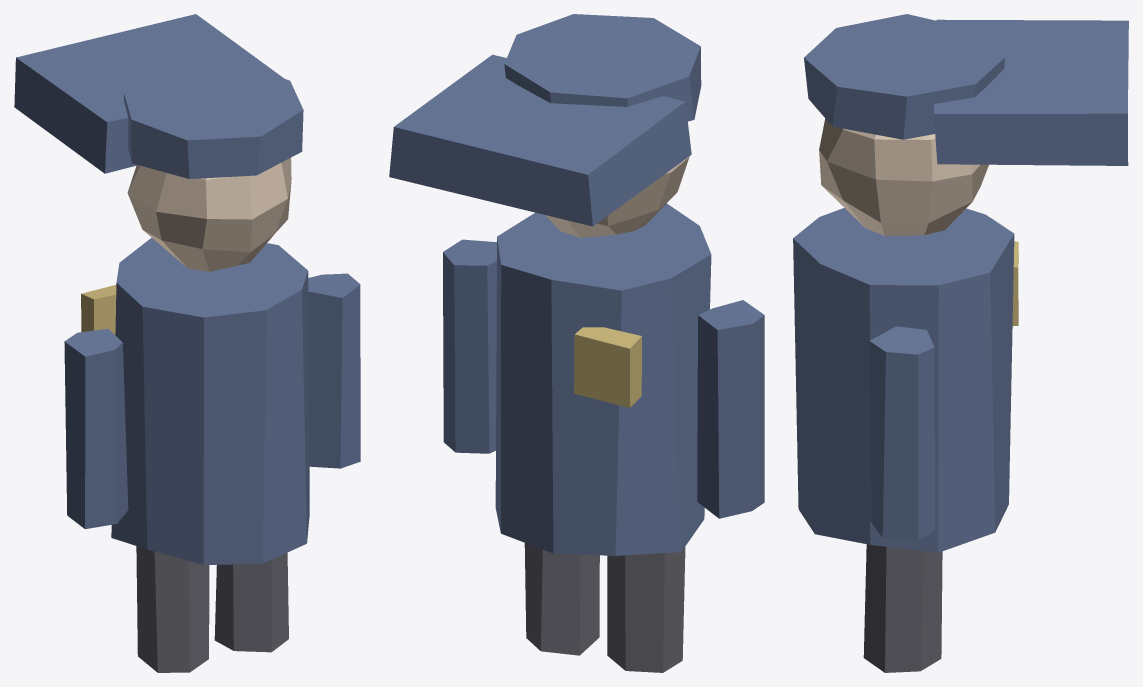
Rendered from securityfigure.fbx.
3 views of the same model, side by side, from view 1: azimuth 30°, elevation 25°; view 2: azimuth 150°, elevation 25°; view 3: azimuth 270°, elevation 25° (orthographic). The views are drawn at different scales.
Visible parts, largest first — view 1: SecurityFigure; view 2: SecurityFigure; view 3: SecurityFigure.
Boxes of the visible parts, box(x1,y1,x2,y2) form: SecurityFigure: box(14, 14, 360, 672); SecurityFigure: box(389, 14, 764, 672); SecurityFigure: box(793, 14, 1128, 672).
Size of the model in its own units: 0.6556 by 1.21 by 0.6302.
